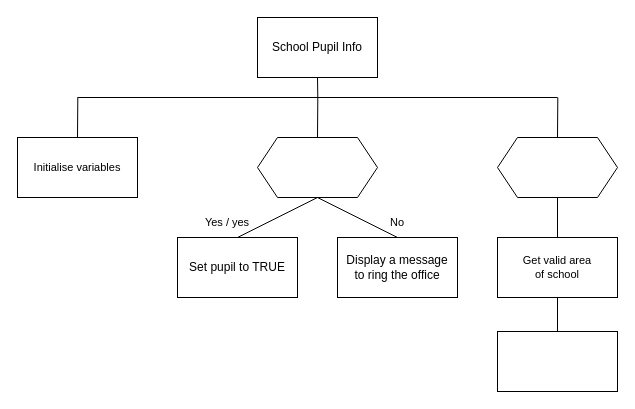
This 635x409 diagram has some shape labels left out. Here are the shapes that lost their labels. From the top down, the box of each, then its label:
(256, 136, 378, 198): Are you a pupil
(496, 136, 618, 198): Is a pupil?
(496, 330, 618, 392): Display start time
